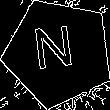N_S: (35, 26, 82, 80)
